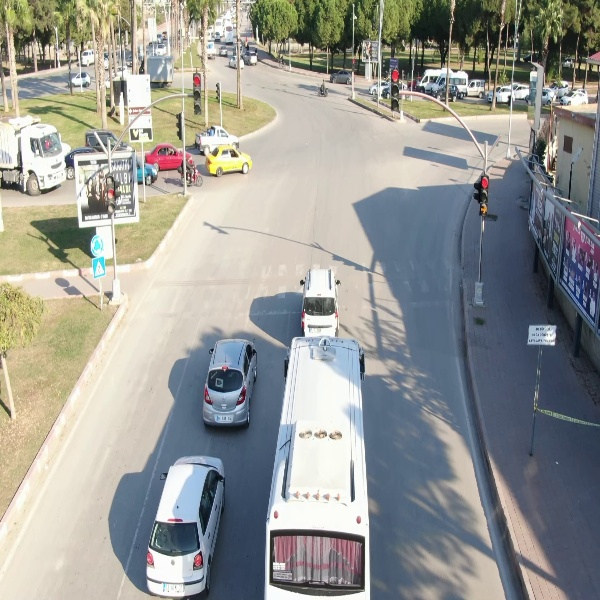car: (141, 452, 229, 597), (201, 339, 260, 431), (297, 265, 343, 337), (203, 142, 256, 178), (487, 83, 515, 105), (434, 82, 463, 103), (560, 88, 591, 106), (327, 68, 356, 84), (68, 70, 92, 88)
